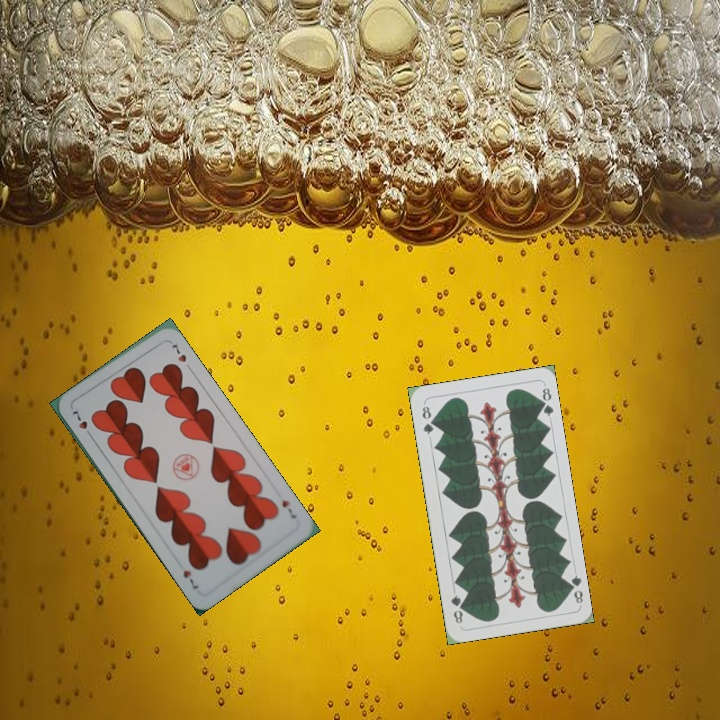G8: (563, 571, 586, 606), (418, 400, 436, 437)
H7: (68, 405, 96, 441), (278, 496, 299, 521)
